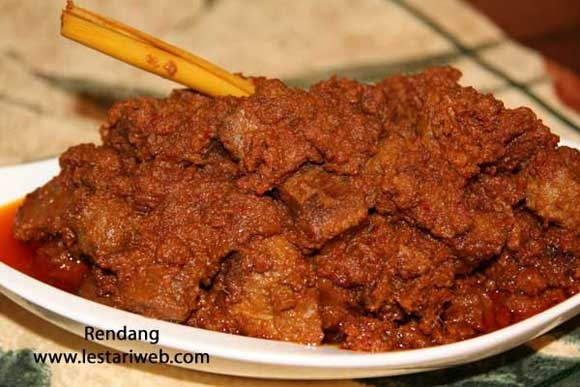rendang: (32, 98, 578, 333)
